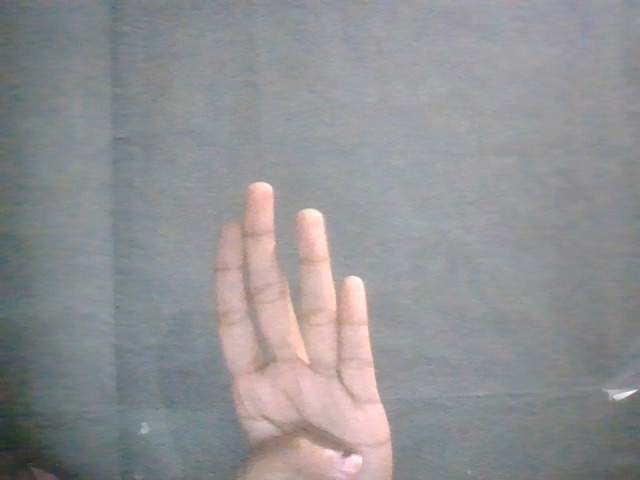LiveLong: (197, 181, 400, 480)
